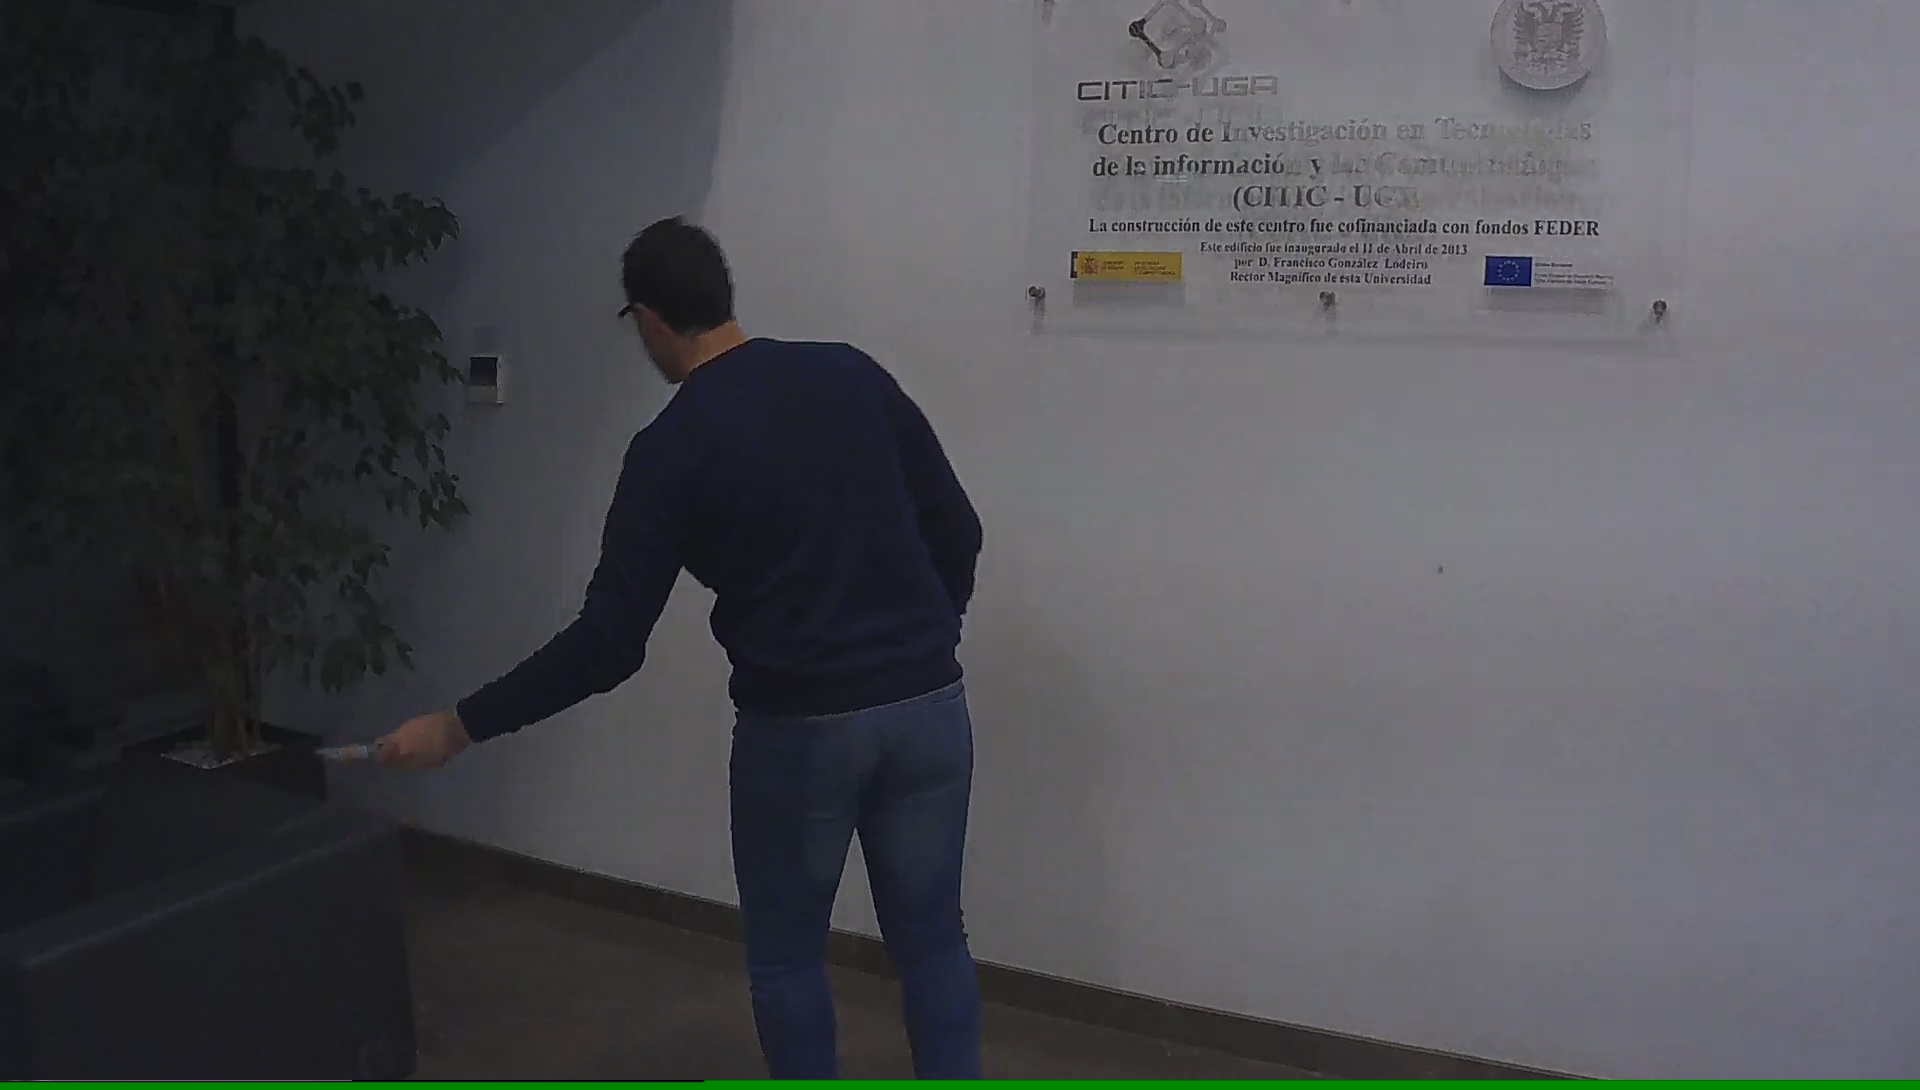knife: (301, 713, 411, 778)
